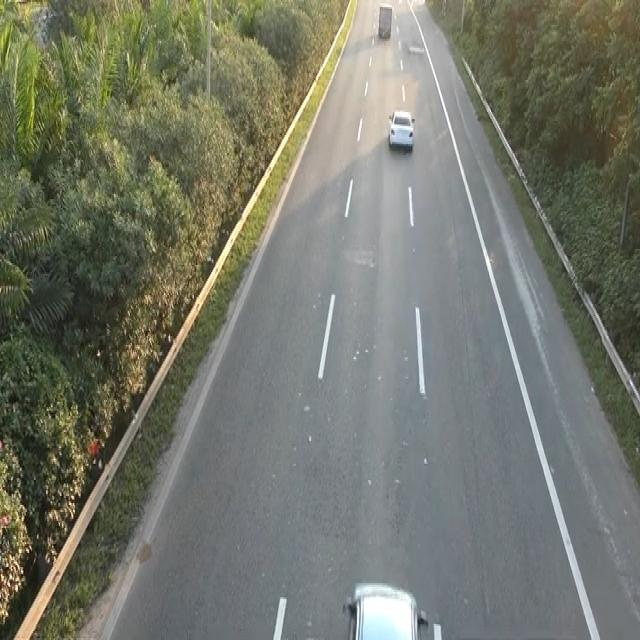bus: (341, 578, 445, 638), (385, 105, 418, 158)
minivan: (377, 2, 393, 39)
